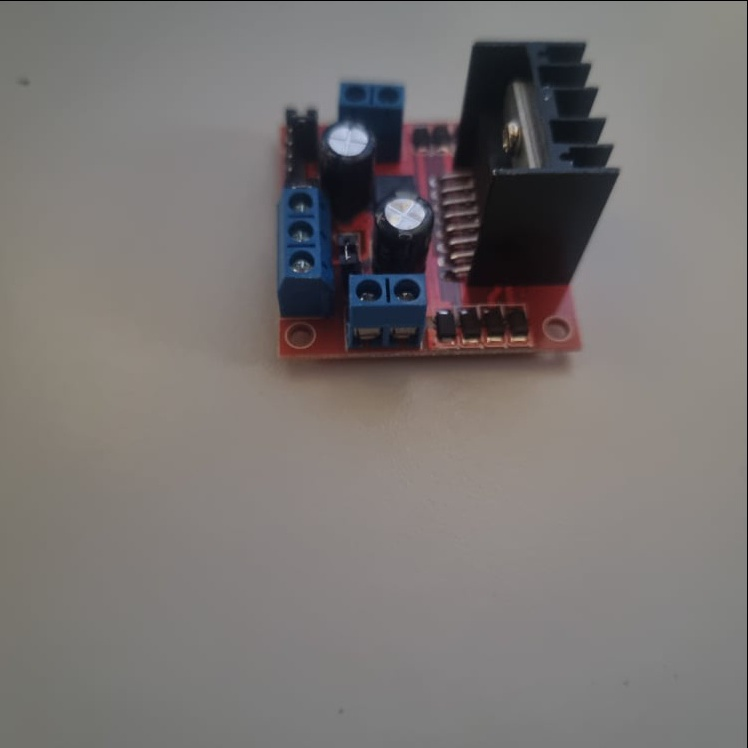MOTOR: (273, 41, 623, 357)
